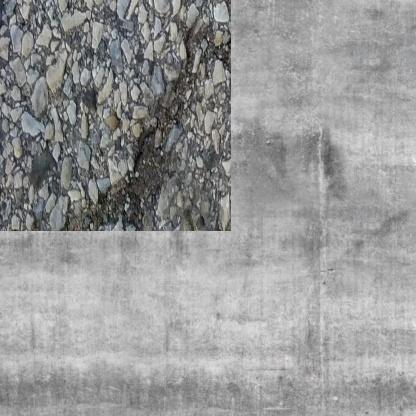Cracks: (72, 18, 214, 213)
